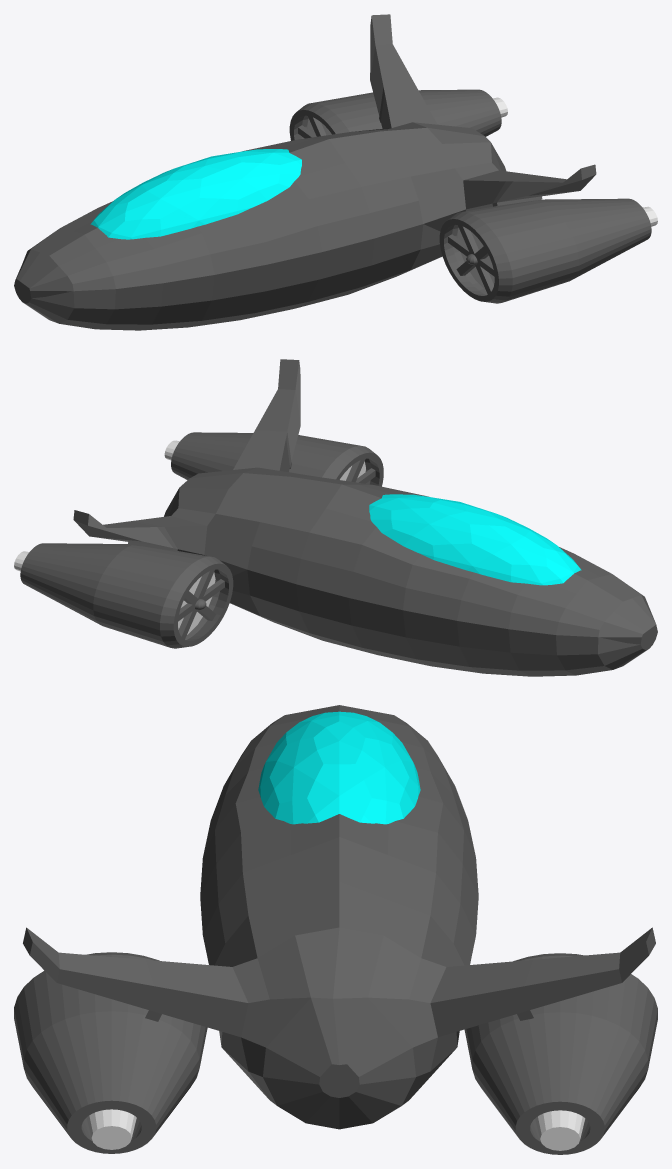
File: pltka2.2.fbx
The picture shows the model from 3 angles, top to bottom: view 1: azimuth 30°, elevation 25°; view 2: azimuth 150°, elevation 25°; view 3: azimuth 270°, elevation 25°; orthographic projection. The views are drawn at different scales.
Visible parts, largest first — view 1: Pltka, Turbine case.001, cockpit, Turbine case, Turbine engine.001; view 2: Pltka, Turbine case, cockpit, Turbine case.001, Turbine engine; view 3: Pltka, Turbine case.001, Turbine case, cockpit, Turbine engine, Turbine engine.001.
Boxes of the visible parts, bbox=[...] form: Pltka: bbox=[14, 14, 596, 330]; Turbine case.001: bbox=[439, 198, 651, 303]; cockpit: bbox=[90, 149, 301, 239]; Turbine case: bbox=[289, 89, 501, 140]; Turbine engine.001: bbox=[457, 206, 657, 289]; Pltka: bbox=[73, 359, 657, 676]; Turbine case: bbox=[20, 543, 233, 648]; cockpit: bbox=[369, 494, 581, 585]; Turbine case.001: bbox=[171, 432, 383, 486]; Turbine engine: bbox=[14, 551, 215, 634]; Pltka: bbox=[23, 705, 655, 1129]; Turbine case.001: bbox=[14, 952, 207, 1153]; Turbine case: bbox=[464, 953, 657, 1154]; cockpit: bbox=[258, 711, 420, 824]; Turbine engine: bbox=[535, 1110, 585, 1150]; Turbine engine.001: bbox=[86, 1109, 136, 1149].
Size of the model in its own units: 685 by 192 by 462.
